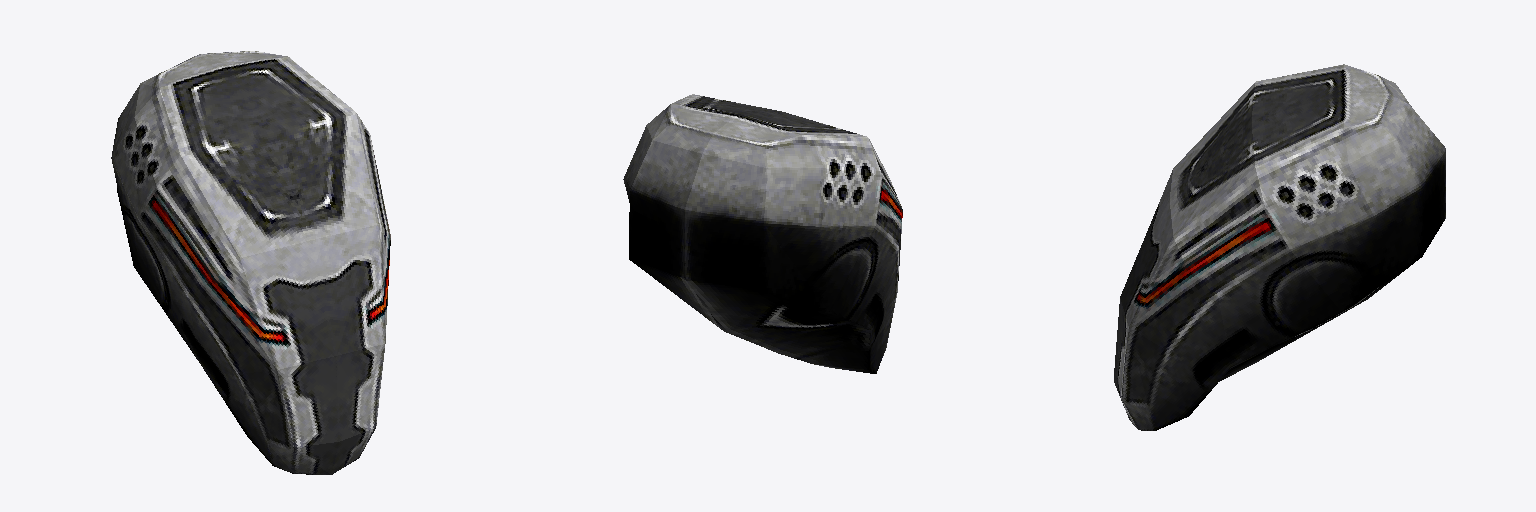
The picture shows the model from 3 angles: view 1: azimuth 30°, elevation 25°; view 2: azimuth 150°, elevation 25°; view 3: azimuth 270°, elevation 25°; orthographic projection.
Visible parts, largest first — view 1: polySurface71 EM_208_heavy1:Mesh; view 2: polySurface71 EM_208_heavy1:Mesh; view 3: polySurface71 EM_208_heavy1:Mesh.
Boxes of the visible parts, x1,y1,x2,y2 form: polySurface71 EM_208_heavy1:Mesh: [111, 51, 390, 474]; polySurface71 EM_208_heavy1:Mesh: [623, 94, 902, 373]; polySurface71 EM_208_heavy1:Mesh: [1114, 64, 1445, 430].
Bounding box in the file's own units: 0.4012 × 0.559 × 0.5139.
1 materials, 1 textured.